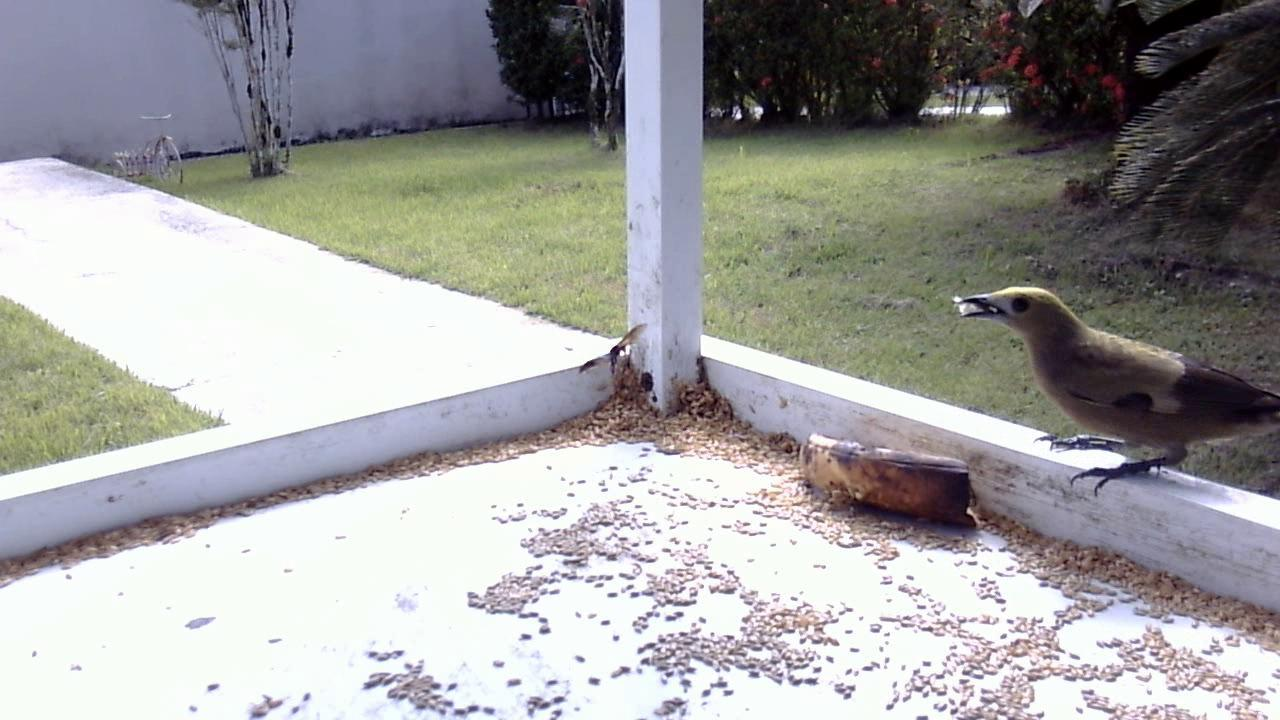sanhaco_do_coqueiro: (947, 277, 1278, 505)
